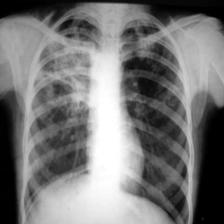tuberculosis: (14, 3, 196, 224)
